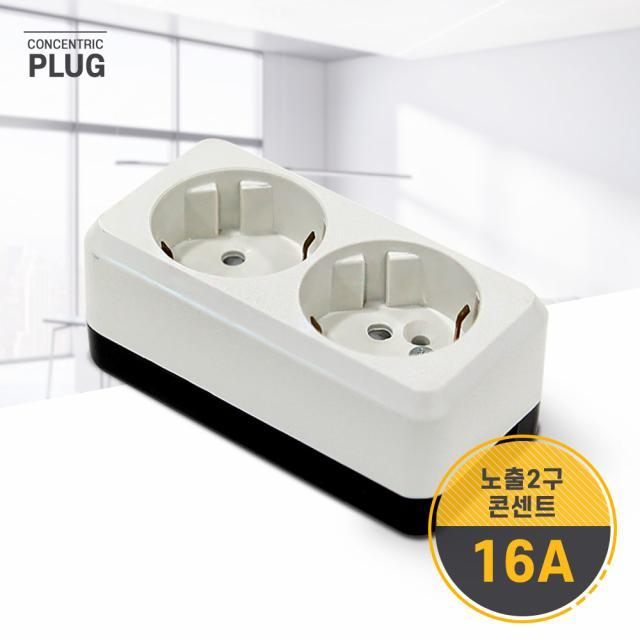typeb: (58, 112, 574, 534)
